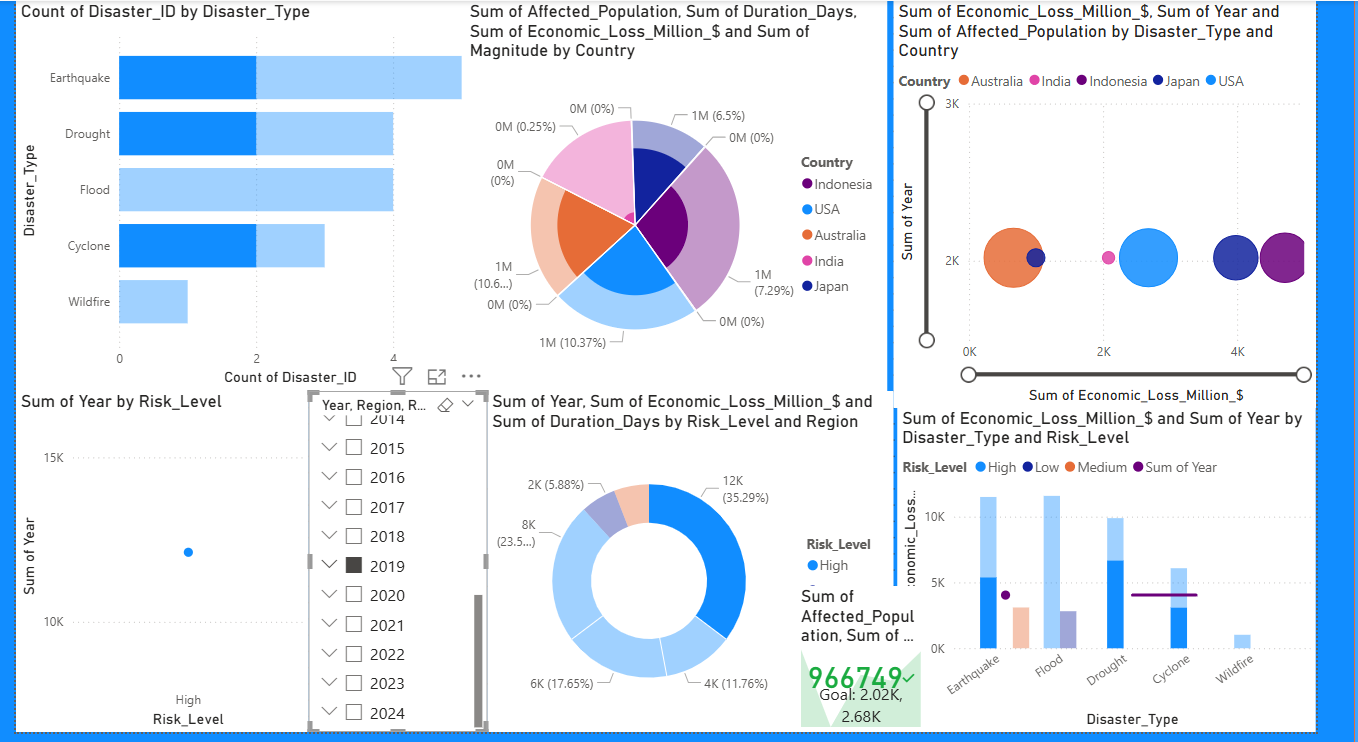

What the dashboard file says about the page in this screenshot:
{"tool":"powerbi","page":{"name":"Natural Disaster PowerBi Main Project Data Analysis and Predictions","canvas":[1280,720],"ordinal":0},"visuals":[{"type":"barChart","fields":{"Y":["CountNonNull(Natural_disaster Prediction of Data Analysis.Disaster_ID)"],"Category":["Natural_disaster Prediction of Data Analysis.Disaster_Type"]},"box":[16,0,416,384],"z":0},{"type":"lineChart","fields":{"Y":["Sum(Natural_disaster Prediction of Data Analysis.Year)"],"Category":["Natural_disaster Prediction of Data Analysis.Risk_Level"]},"box":[48,400,240,320],"z":1000},{"type":"pieChart","fields":{"Y":["Sum(Natural_disaster Prediction of Data Analysis.Affected_Population)","Sum(Natural_disaster Prediction of Data Analysis.Duration_Days)","Sum(Natural_disaster Prediction of Data Analysis.Economic_Loss_Million_$)","Sum(Natural_disaster Prediction of Data Analysis.Magnitude)"],"Category":["Natural_disaster Prediction of Data Analysis.Country","Natural_disaster Prediction of Data Analysis.Region"]},"box":[442,0,416,384],"z":2000},{"type":"donutChart","fields":{"Category":["Natural_disaster Prediction of Data Analysis.Risk_Level","Natural_disaster Prediction of Data Analysis.Country","Natural_disaster Prediction of Data Analysis.Disaster_Type"],"Y":["Sum(Natural_disaster Prediction of Data Analysis.Year)"],"Series":["Natural_disaster Prediction of Data Analysis.Region"]},"box":[464,400,394,320],"z":3000},{"type":"scatterChart","fields":{"X":["Sum(Natural_disaster Prediction of Data Analysis.Economic_Loss_Million_$)"],"Y":["Sum(Natural_disaster Prediction of Data Analysis.Year)"],"Category":["Natural_disaster Prediction of Data Analysis.Disaster_Type"],"Series":["Natural_disaster Prediction of Data Analysis.Country"],"Size":["Sum(Natural_disaster Prediction of Data Analysis.Affected_Population)"]},"box":[868,0,412,384],"z":4000},{"type":"lineClusteredColumnComboChart","fields":{"Category":["Natural_disaster Prediction of Data Analysis.Disaster_Type"],"Y":["Sum(Natural_disaster Prediction of Data Analysis.Economic_Loss_Million_$)"],"Series":["Natural_disaster Prediction of Data Analysis.Risk_Level"],"Y2":["Sum(Natural_disaster Prediction of Data Analysis.Year)"]},"box":[868,400,412,320],"z":5000},{"type":"slicer","fields":{"Values":["Natural_disaster Prediction of Data Analysis.Year","Natural_disaster Prediction of Data Analysis.Region","Natural_disaster Prediction of Data Analysis.Risk_Level","Natural_disaster Prediction of Data Analysis.Disaster_Type"]},"box":[288,416,176,304],"z":6000},{"type":"kpi","fields":{"Indicator":["Sum(Natural_disaster Prediction of Data Analysis.Affected_Population)"],"TrendLine":["Natural_disaster Prediction of Data Analysis.Country"],"Goal":["Sum(Natural_disaster Prediction of Data Analysis.Year)","Sum(Natural_disaster Prediction of Data Analysis.Economic_Loss_Million_$)"]},"box":[768,576,128,144],"z":7000}]}

Visuals, with their boxes in screenshot pixels (x1, y1, x2, y2), scaled from the page's 1280x720 canvas onto the 1358x742 screenshot:
barChart - CountNonNull(Natural_disaster Prediction of Data Analysis.Disaster_ID) x Natural_disaster Prediction of Data Analysis.Disaster_Type: <region>17, 0, 458, 396</region>
lineChart - Sum(Natural_disaster Prediction of Data Analysis.Year) x Natural_disaster Prediction of Data Analysis.Risk_Level: <region>51, 412, 306, 741</region>
pieChart - Sum(Natural_disaster Prediction of Data Analysis.Affected_Population) x Sum(Natural_disaster Prediction of Data Analysis.Duration_Days): <region>469, 0, 910, 396</region>
donutChart - Natural_disaster Prediction of Data Analysis.Risk_Level x Natural_disaster Prediction of Data Analysis.Country: <region>492, 412, 910, 741</region>
scatterChart - Sum(Natural_disaster Prediction of Data Analysis.Economic_Loss_Million_$) x Sum(Natural_disaster Prediction of Data Analysis.Year): <region>921, 0, 1357, 396</region>
lineClusteredColumnComboChart - Natural_disaster Prediction of Data Analysis.Disaster_Type x Sum(Natural_disaster Prediction of Data Analysis.Economic_Loss_Million_$): <region>921, 412, 1357, 741</region>
slicer - Natural_disaster Prediction of Data Analysis.Year x Natural_disaster Prediction of Data Analysis.Region: <region>306, 429, 492, 741</region>
kpi - Sum(Natural_disaster Prediction of Data Analysis.Affected_Population) x Natural_disaster Prediction of Data Analysis.Country: <region>815, 594, 951, 741</region>
